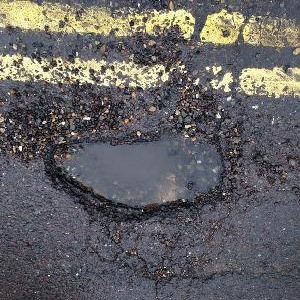pothole: (41, 118, 240, 225)
